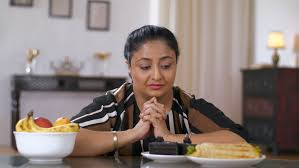indian_female: (120, 19, 188, 124)
